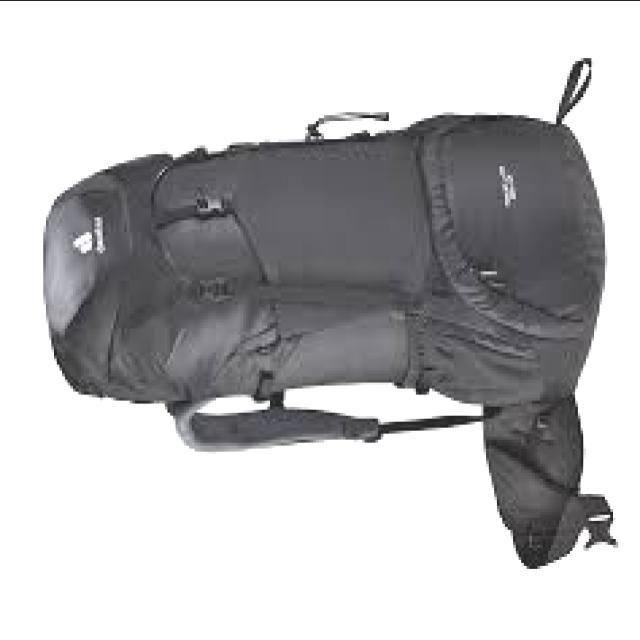backpack: (39, 58, 617, 572)
